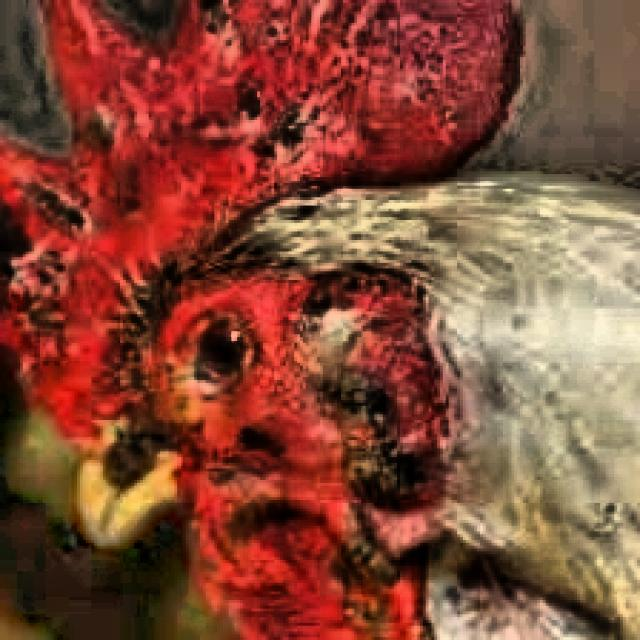Fowlpox: (8, 0, 443, 606)
